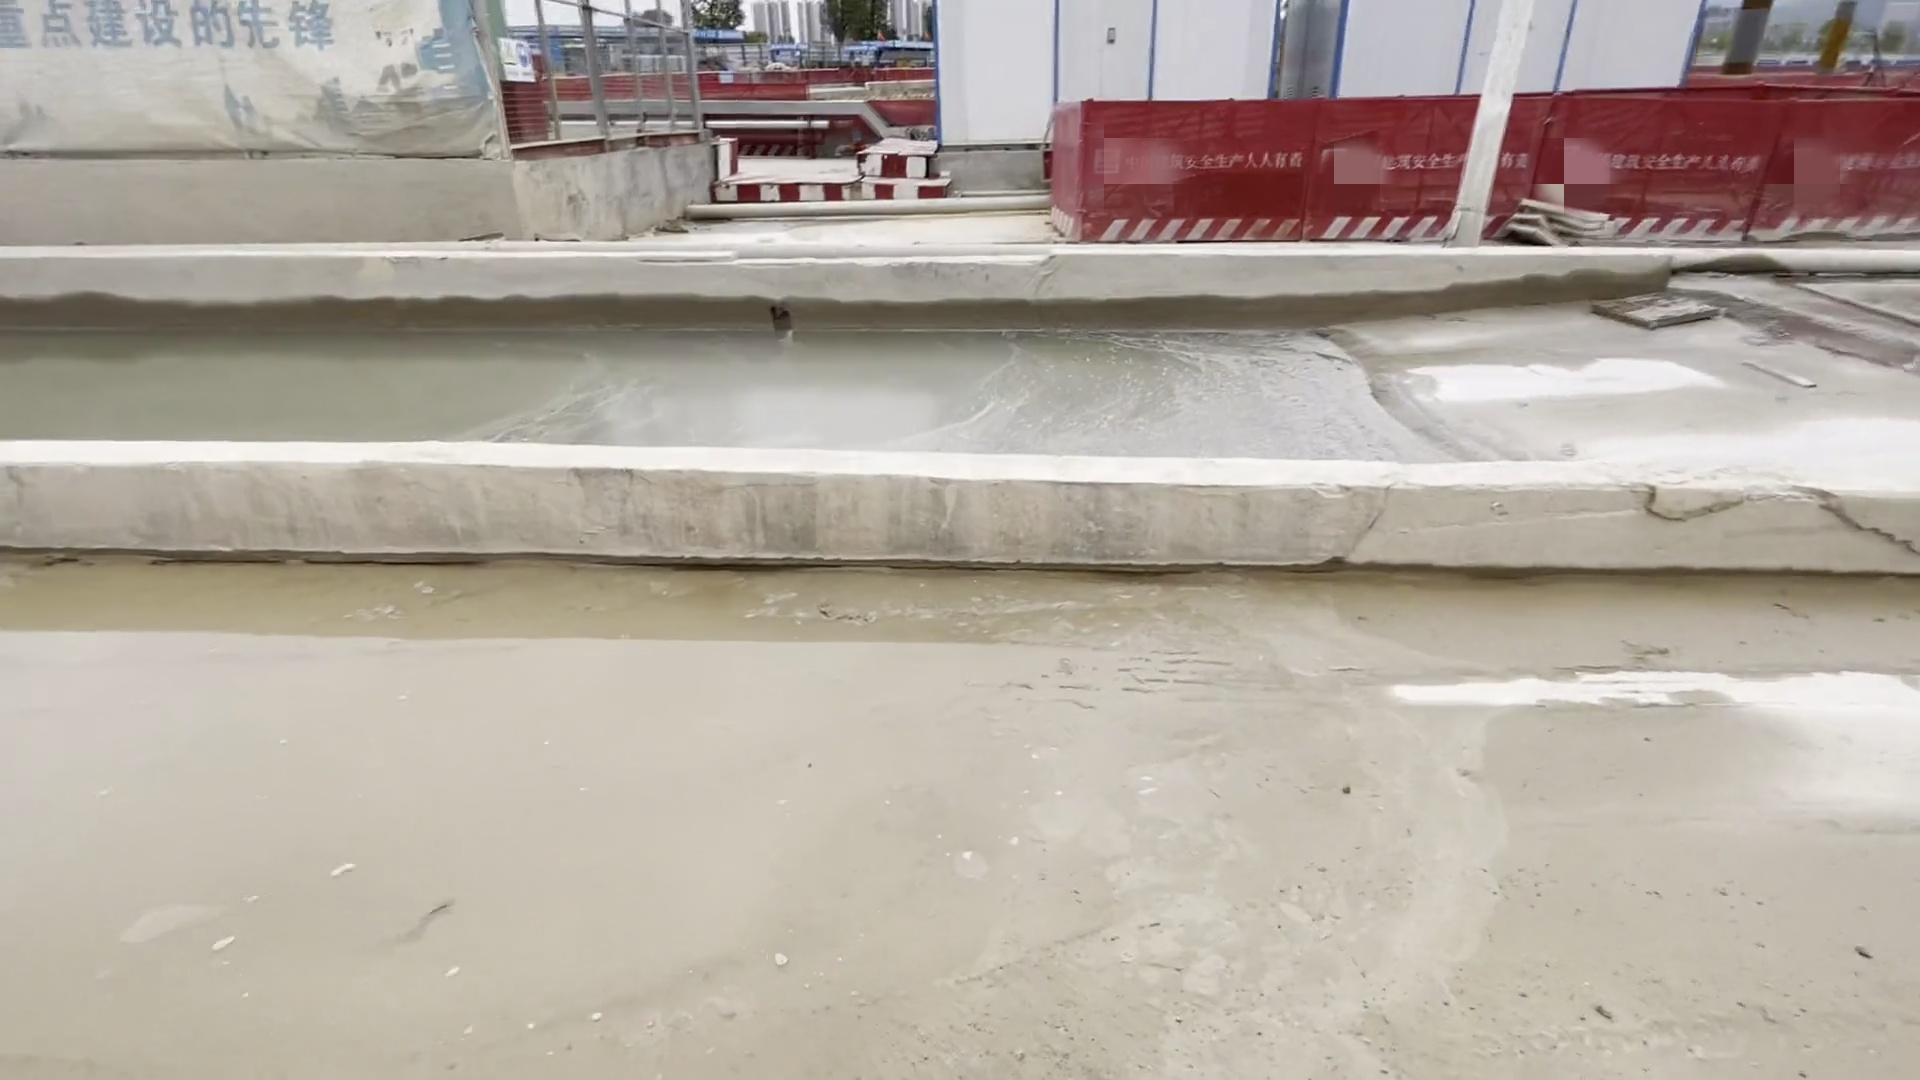fence: (1038, 103, 1920, 225)
slogan: (1, 7, 431, 88)
